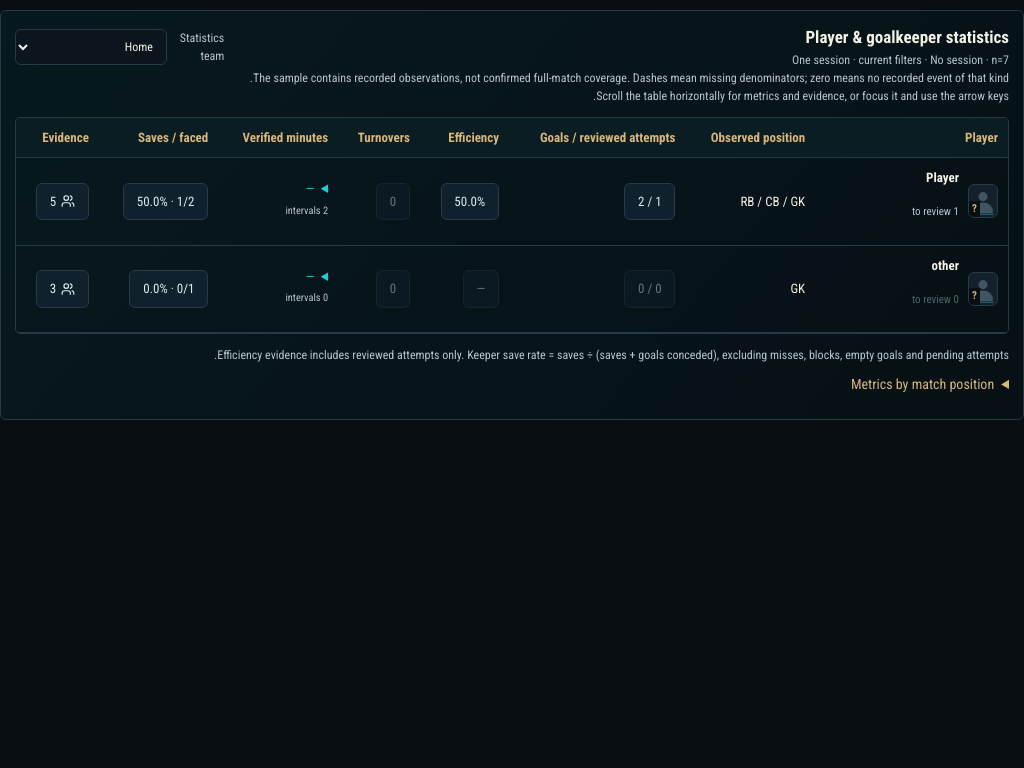
Test: exposes clock, period, position and verification without inventing minutes for incomplete intervals
Step 1. Click the heading named "Player · On-court intervals" → [307, 199], box x1=285 y1=181 x2=328 y2=217
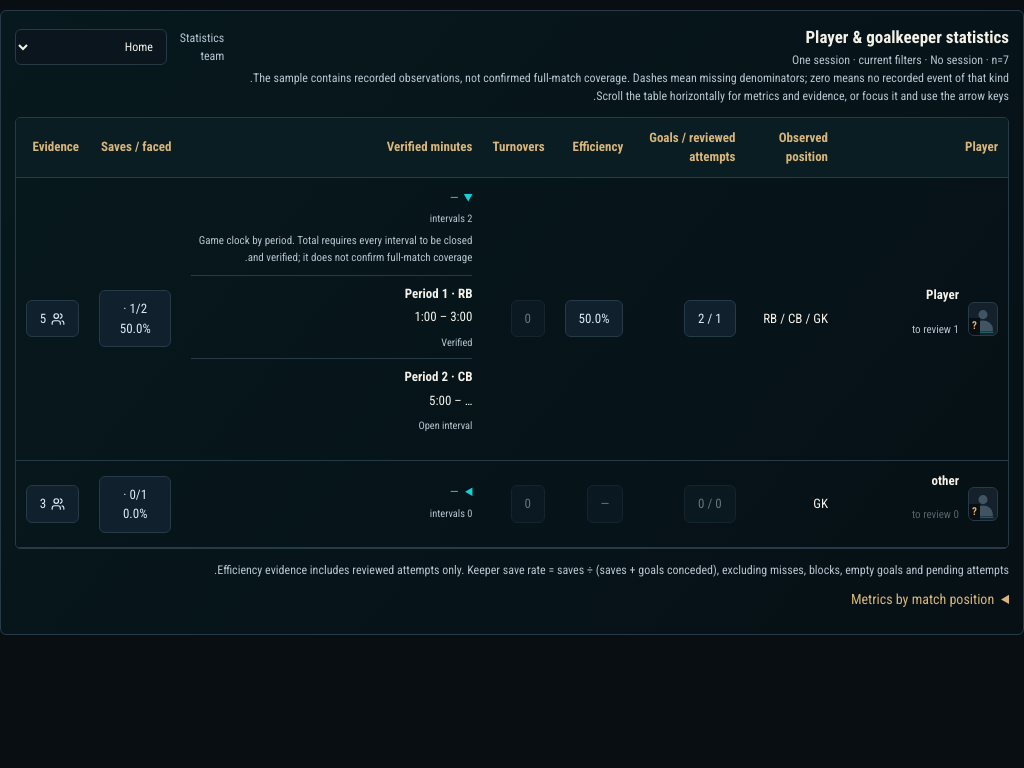
Check: the number of list items is 2, box x1=191 y1=275 x2=472 y2=358; x1=191 y1=358 x2=472 y2=442
Check: the element named "Player · On-court intervals" shows "Period 1 · RB", box x1=191 y1=188 x2=472 y2=442
Check: the element named "Player · On-court intervals" shows "1:00 – 3:00", box x1=191 y1=188 x2=472 y2=442
